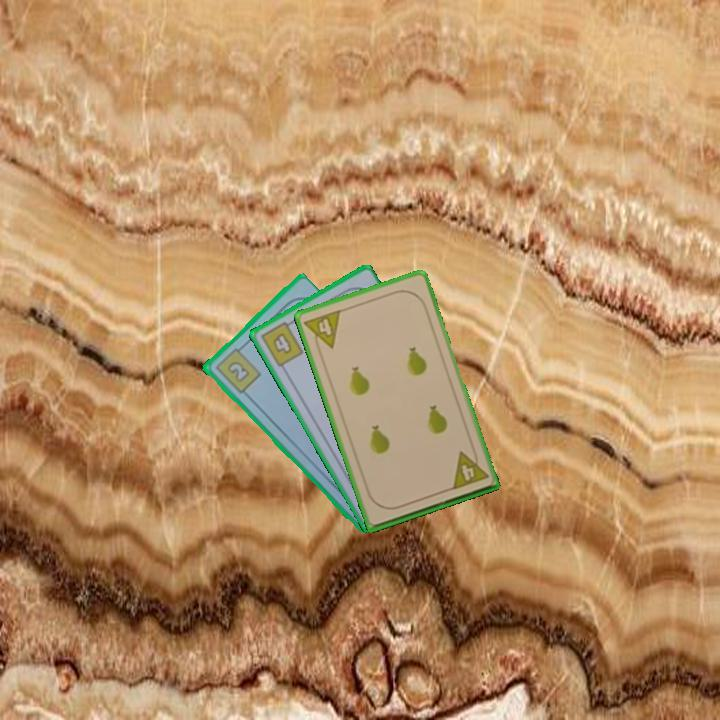2b: (211, 342, 263, 396)
4b: (257, 316, 306, 370)
4p: (300, 306, 344, 355), (448, 445, 491, 493)
